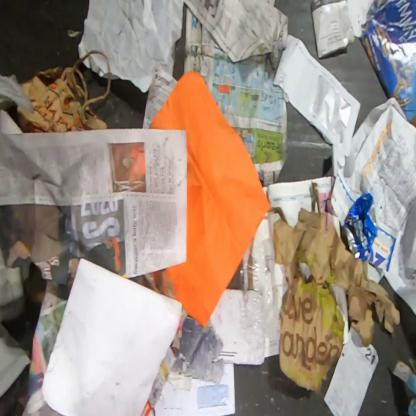cardboard: (358, 0, 415, 129)
metal: (342, 191, 378, 262)
rigid_plastic: (239, 211, 274, 331)
